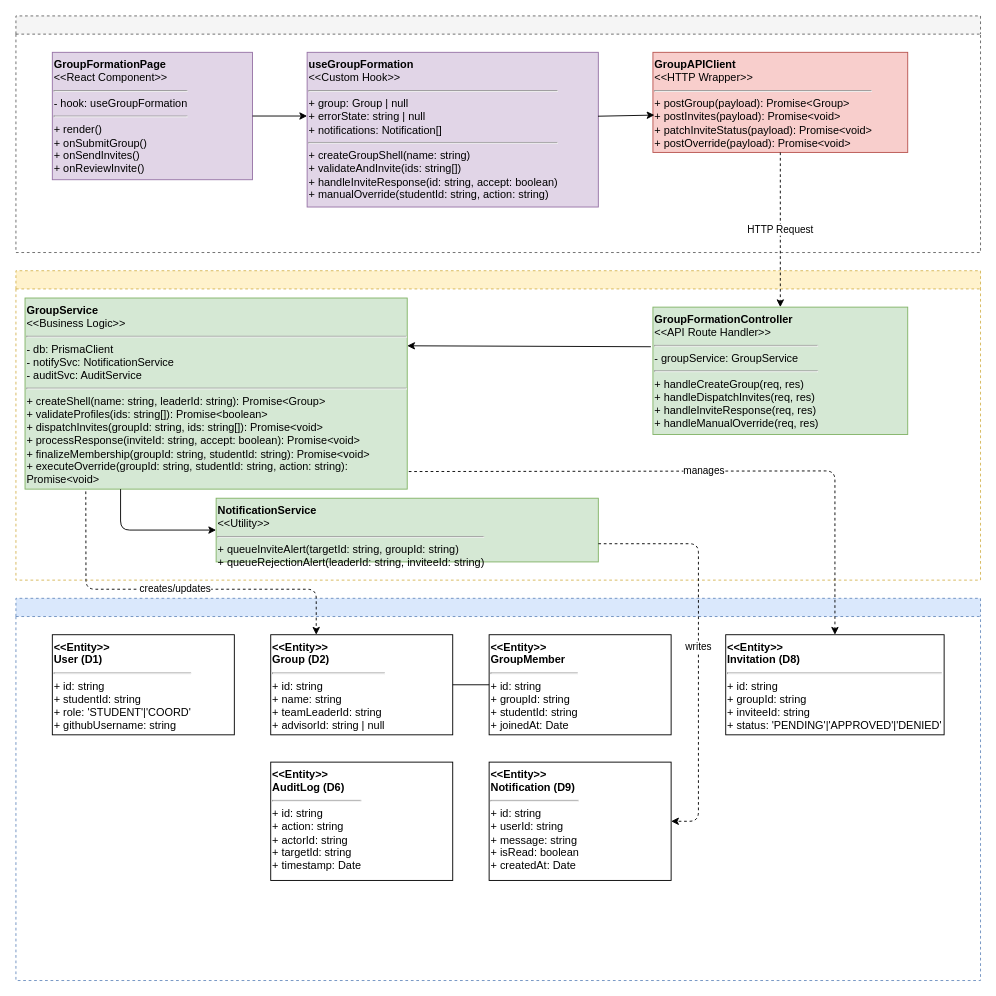
Some shapes in this 996 by 996 pixel diagram are drawn without their labels. The shapes that lost their labels are listed below. From the top down, each one's box as (x1, y1, x2, y2) in pixels, then its label:
(15, 15, 981, 253): Frontend (React / UI Hooks)
(15, 270, 981, 580): Backend (Next.js API & Services)
(15, 597, 981, 981): Data Models (TypeScript Interfaces / ORM Entities)
